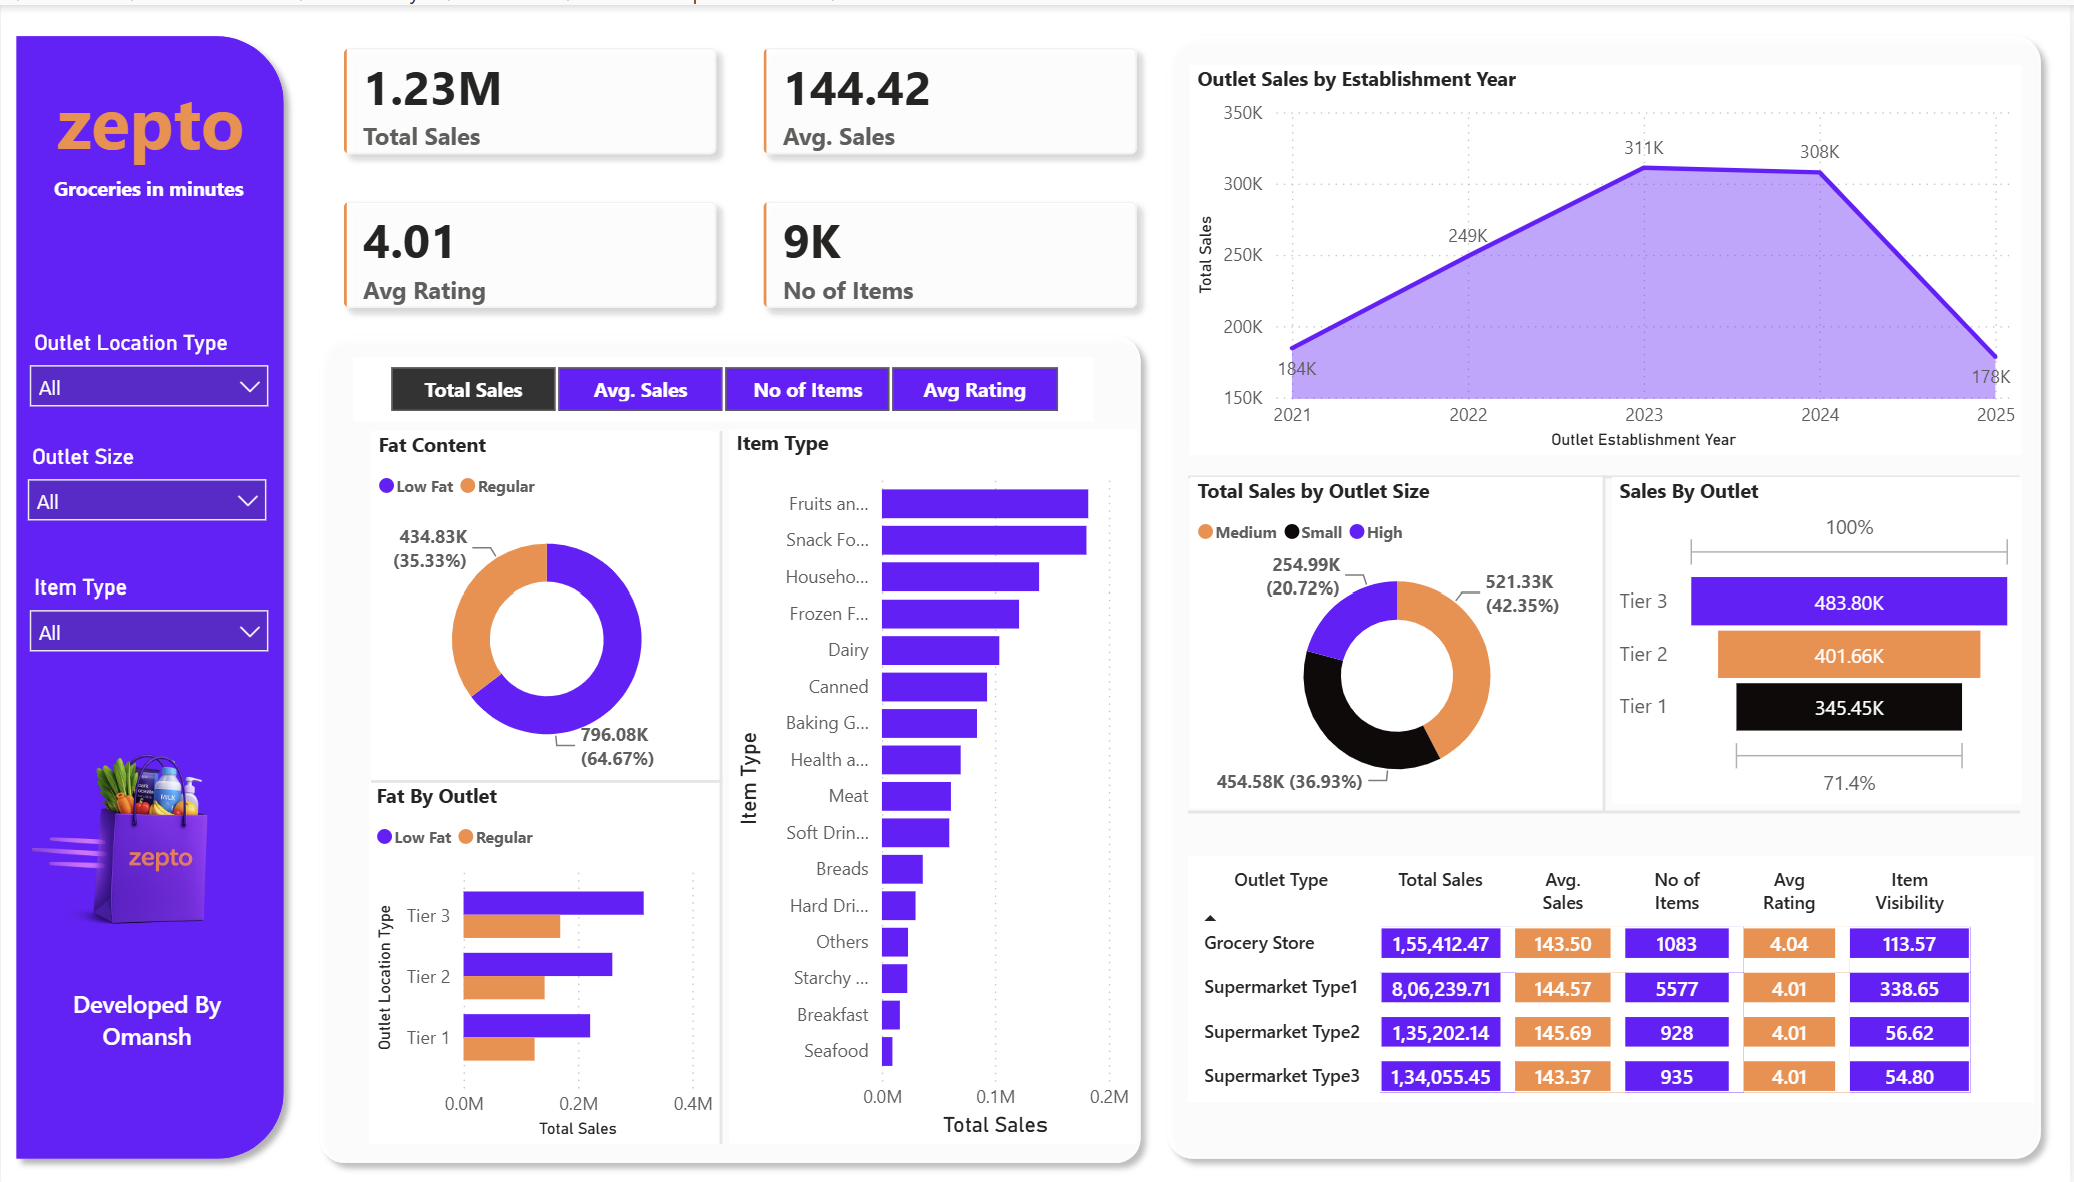

The dashboard page shown, as its layout file describes it:
{"tool":"powerbi","page":{"name":"Zepto Sales Analysis","canvas":[1400,800],"ordinal":0},"visuals":[{"type":"shape","box":[1.4,12.2,199,777],"z":0},{"type":"textbox","box":[27.1,40,148.6,84.3],"z":1000},{"type":"textbox","box":[27.1,110,145.7,28.6],"z":2000},{"type":"cardVisual","fields":{"Data":["Zepto Grocery Data.Total Sales","Zepto Grocery Data.Avg. Sales","Zepto Grocery Data.Avg Rating","Zepto Grocery Data.No of Items"]},"box":[203,0,594.2,235.5],"z":3000},{"type":"shape","box":[207.6,214.8,572.4,576.7],"z":4000},{"type":"donutChart","title":"Fat Content","fields":{"Y":["Zepto Grocery Data.Total Sales"],"Category":["Zepto Grocery Data.Item Fat Content"]},"box":[250.9,288.4,237.9,236.5],"z":5000},{"type":"slicer","fields":{"Values":["Metrics.Metrics"]},"box":[237.9,237.9,500.3,43.3],"z":6000},{"type":"clusteredBarChart","title":"Fat By Outlet","fields":{"Y":["Zepto Grocery Data.Total Sales"],"Series":["Zepto Grocery Data.Item Fat Content"],"Category":["Zepto Grocery Data.Outlet Location Type"]},"box":[249.4,524.8,237.9,245.1],"z":7000},{"type":"shape","box":[250.9,509,237.9,31.7],"z":8000},{"type":"shape","box":[473.8,288.3,27.1,481.9],"z":9000},{"type":"barChart","title":"Item Type","fields":{"Y":["Zepto Grocery Data.Total Sales"],"Category":["Zepto Grocery Data.Item Type"]},"box":[493.1,286.9,275.4,483],"z":10000},{"type":"shape","box":[779.7,12.2,609.1,777],"z":11000},{"type":"lineChart","title":"Outlet Sales by Establishment Year","fields":{"Y":["Zepto Grocery Data.Total Sales"],"Category":["Zepto Grocery Data.Outlet Establishment Year"]},"box":[804.1,40.6,563.1,264],"z":12000},{"type":"shape","box":[802.7,303.2,563.1,32.5],"z":13000},{"type":"donutChart","fields":{"Category":["Zepto Grocery Data.Outlet Size"],"Y":["Zepto Grocery Data.Total Sales"]},"box":[804.1,319.5,280.2,223.4],"z":14000},{"type":"shape","box":[1065.3,318.1,37.9,227.4],"z":15000},{"type":"funnel","title":"Sales By Outlet","fields":{"Y":["Sum(Zepto Grocery Data.Sales)"],"Category":["Zepto Grocery Data.Outlet Location Type"]},"box":[1089.7,319.5,277.5,220.6],"z":16000},{"type":"shape","box":[802.7,529.3,563.1,32.5],"z":17000},{"type":"pivotTable","fields":{"Rows":["Zepto Grocery Data.Outlet Type"],"Values":["Zepto Grocery Data.Total Sales","Zepto Grocery Data.Avg. Sales","Zepto Grocery Data.No of Items","Zepto Grocery Data.Avg Rating","Sum(Zepto Grocery Data.Item Visibility)"]},"box":[802.7,575.3,572.6,166.5],"z":18000},{"type":"slicer","fields":{"Values":["Zepto Grocery Data.Outlet Location Type"]},"box":[10.1,214.8,181.7,88],"z":19000},{"type":"slicer","fields":{"Values":["Zepto Grocery Data.Outlet Size"]},"box":[8.7,292.7,181.7,88],"z":20000},{"type":"slicer","fields":{"Values":["Zepto Grocery Data.Item Type"]},"box":[10.1,380.6,181.7,88],"z":21000},{"type":"textbox","box":[17.6,659.2,162.4,54.1],"z":22000},{"type":"image","box":[5.4,425,190.9,277.5],"z":23000}]}

Visuals, with their boxes in screenshot pixels (x1, y1, x2, y2), scaled from the page's 1400x800 canvas onto the 2074x1182 screenshot:
shape: locate(2, 18, 297, 1166)
textbox: locate(40, 59, 260, 184)
textbox: locate(40, 163, 256, 205)
cardVisual - Zepto Grocery Data.Total Sales x Zepto Grocery Data.Avg. Sales: locate(301, 0, 1181, 348)
shape: locate(308, 317, 1156, 1169)
"Fat Content" donutChart: locate(372, 426, 724, 776)
slicer - Metrics.Metrics: locate(352, 351, 1094, 415)
"Fat By Outlet" clusteredBarChart: locate(369, 775, 722, 1138)
shape: locate(372, 752, 724, 799)
shape: locate(702, 426, 742, 1138)
"Item Type" barChart: locate(730, 424, 1138, 1138)
shape: locate(1155, 18, 2057, 1166)
"Outlet Sales by Establishment Year" lineChart: locate(1191, 60, 2025, 450)
shape: locate(1189, 448, 2023, 496)
donutChart - Zepto Grocery Data.Outlet Size x Zepto Grocery Data.Total Sales: locate(1191, 472, 1606, 802)
shape: locate(1578, 470, 1634, 806)
"Sales By Outlet" funnel: locate(1614, 472, 2025, 798)
shape: locate(1189, 782, 2023, 830)
pivotTable - Zepto Grocery Data.Outlet Type x Zepto Grocery Data.Total Sales: locate(1189, 850, 2037, 1096)
slicer - Zepto Grocery Data.Outlet Location Type: locate(15, 317, 284, 447)
slicer - Zepto Grocery Data.Outlet Size: locate(13, 432, 282, 562)
slicer - Zepto Grocery Data.Item Type: locate(15, 562, 284, 692)
textbox: locate(26, 974, 267, 1054)
image: locate(8, 628, 291, 1038)
